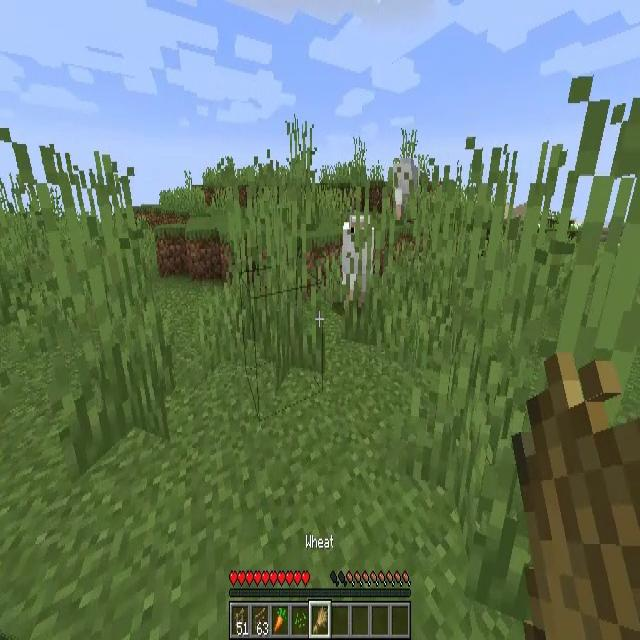sheep: (341, 215, 374, 308), (393, 158, 418, 220)
